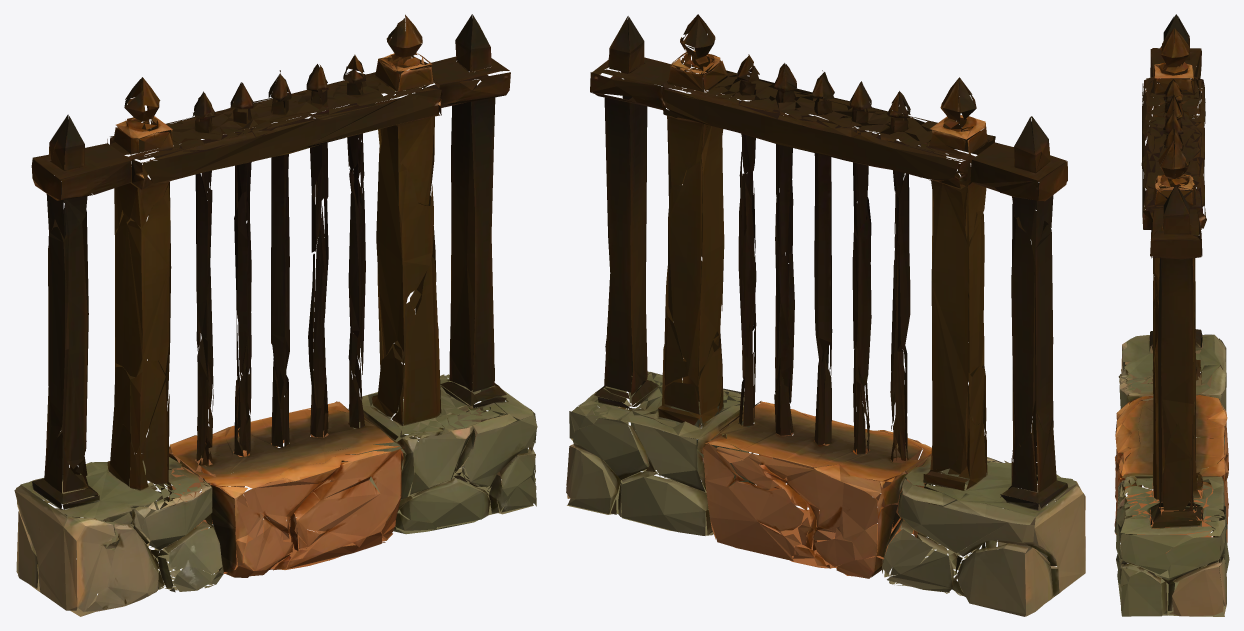
The model's file is iron-gate.glb.
3 renders of one model, left to right at view 1: azimuth 30°, elevation 25°; view 2: azimuth 150°, elevation 25°; view 3: azimuth 270°, elevation 25°, orthographic. The views are drawn at different scales.
Visible parts, largest first — view 1: material; view 2: material; view 3: material.
Boxes of the visible parts, left/top/right/bottom form: material: left=14, top=14, right=537, bottom=616; material: left=566, top=14, right=1085, bottom=616; material: left=1114, top=14, right=1229, bottom=616.
Size of the model in its own units: 0.9041 by 0.92 by 0.2198.
Materials: 1 (1 with a texture image).
